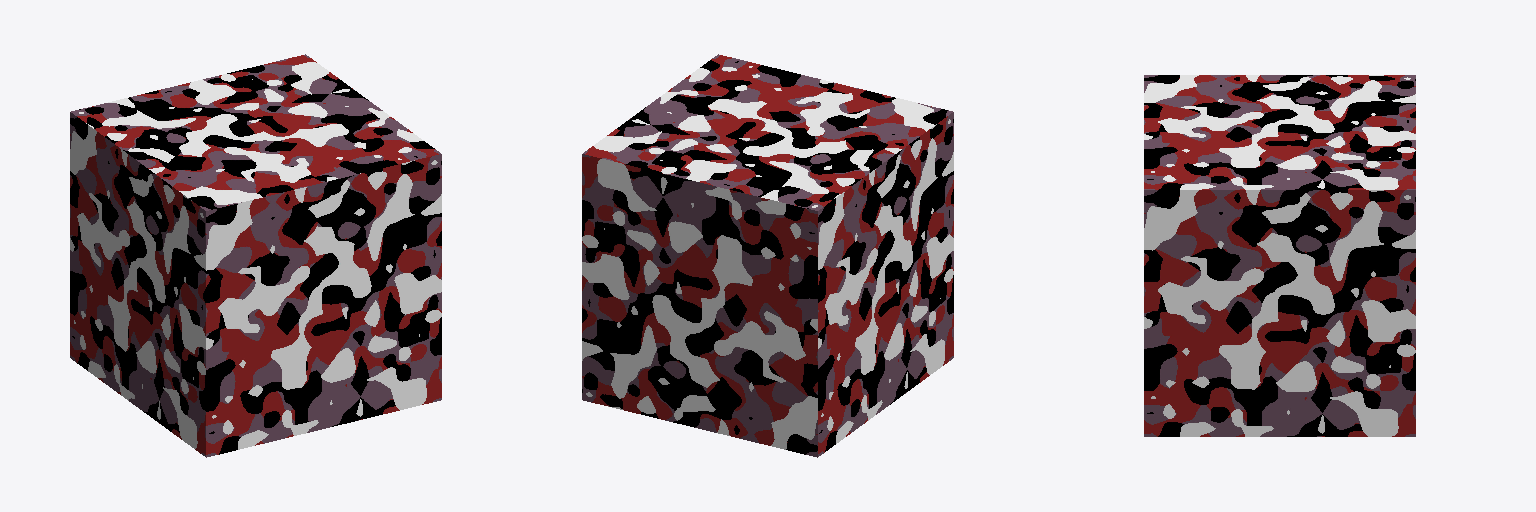
The picture shows the model from 3 angles: view 1: azimuth 30°, elevation 25°; view 2: azimuth 150°, elevation 25°; view 3: azimuth 270°, elevation 25°; orthographic projection.
Parts seen in each view (by area): view 1: Cube; view 2: Cube; view 3: Cube.
Part boxes in pixels (left/top/right/bottom): Cube: left=70, top=54, right=441, bottom=457; Cube: left=582, top=54, right=953, bottom=457; Cube: left=1144, top=75, right=1415, bottom=436.
Bounding box in the file's own units: 2 × 2 × 2.
Materials: 1 (1 with a texture image).